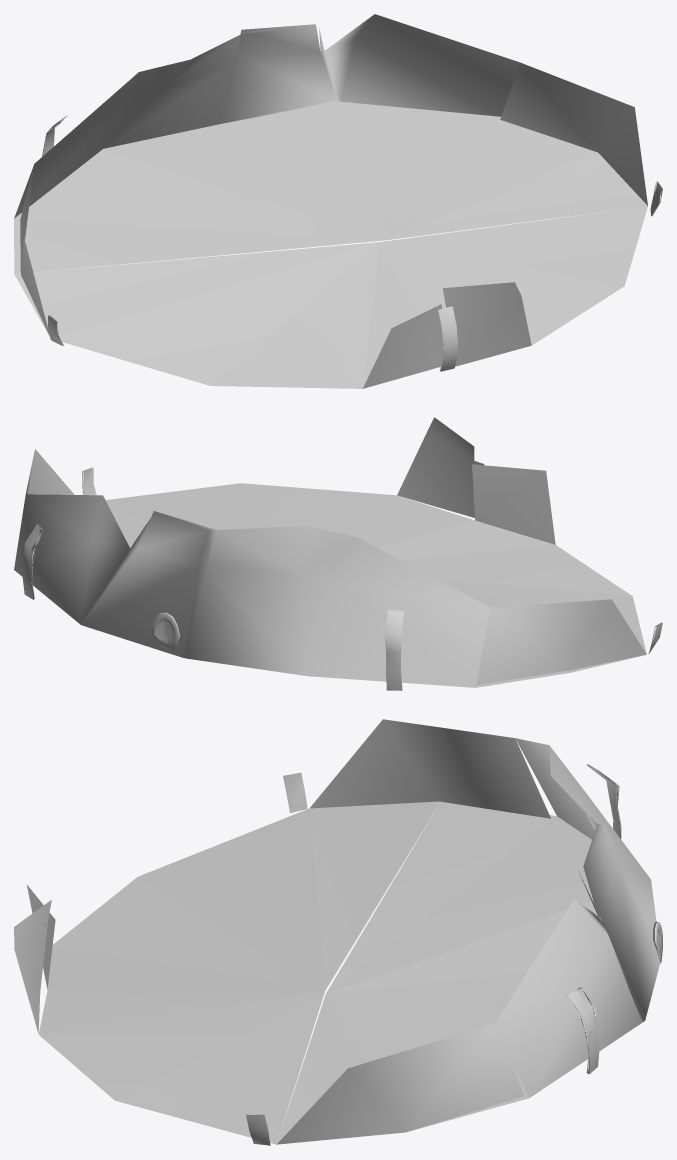
The model's file is hip.glb.
3 renders of one model, top to bottom at view 1: azimuth 30°, elevation 25°; view 2: azimuth 150°, elevation 25°; view 3: azimuth 270°, elevation 25°, orthographic. The views are drawn at different scales.
Visible parts, largest first — view 1: shorts-white_HIP; view 2: shorts-white_HIP; view 3: shorts-white_HIP.
Boxes of the visible parts, x1=… form: shorts-white_HIP: x1=14, y1=14, x2=662, y2=388; shorts-white_HIP: x1=14, y1=417, x2=662, y2=690; shorts-white_HIP: x1=14, y1=719, x2=662, y2=1145.
Size of the model in its own units: 0.4262 by 0.1108 by 0.334.
Materials: 1 (1 with a texture image).
